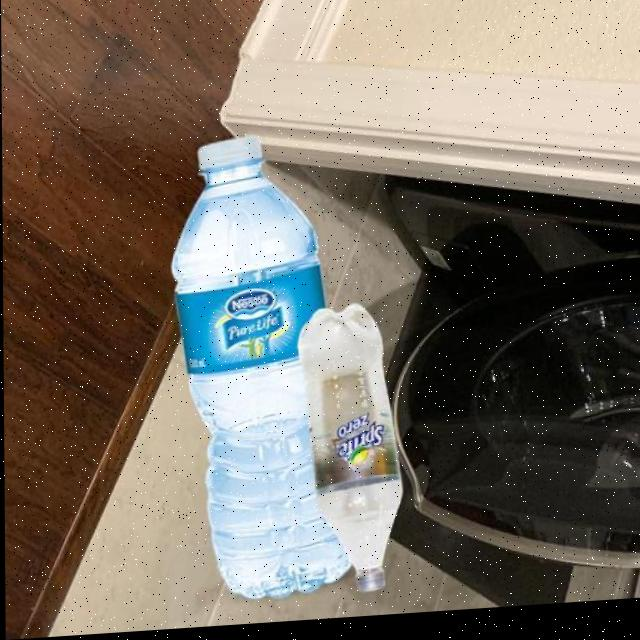bottle: (170, 130, 353, 608), (297, 304, 404, 601)
